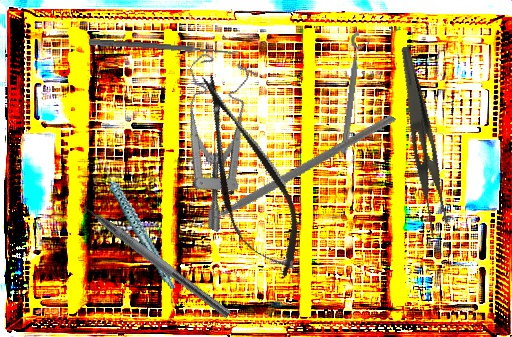Chopper: (179, 50, 397, 287), (68, 186, 240, 319)
Dressing Forceps: (379, 45, 460, 239)
Fixation Ring: (337, 30, 372, 156)
Handpiece: (100, 151, 177, 299)
Micro Scissor: (175, 62, 318, 288)
Speculum: (132, 46, 287, 233)
Surgical Spoon: (88, 38, 240, 57)
